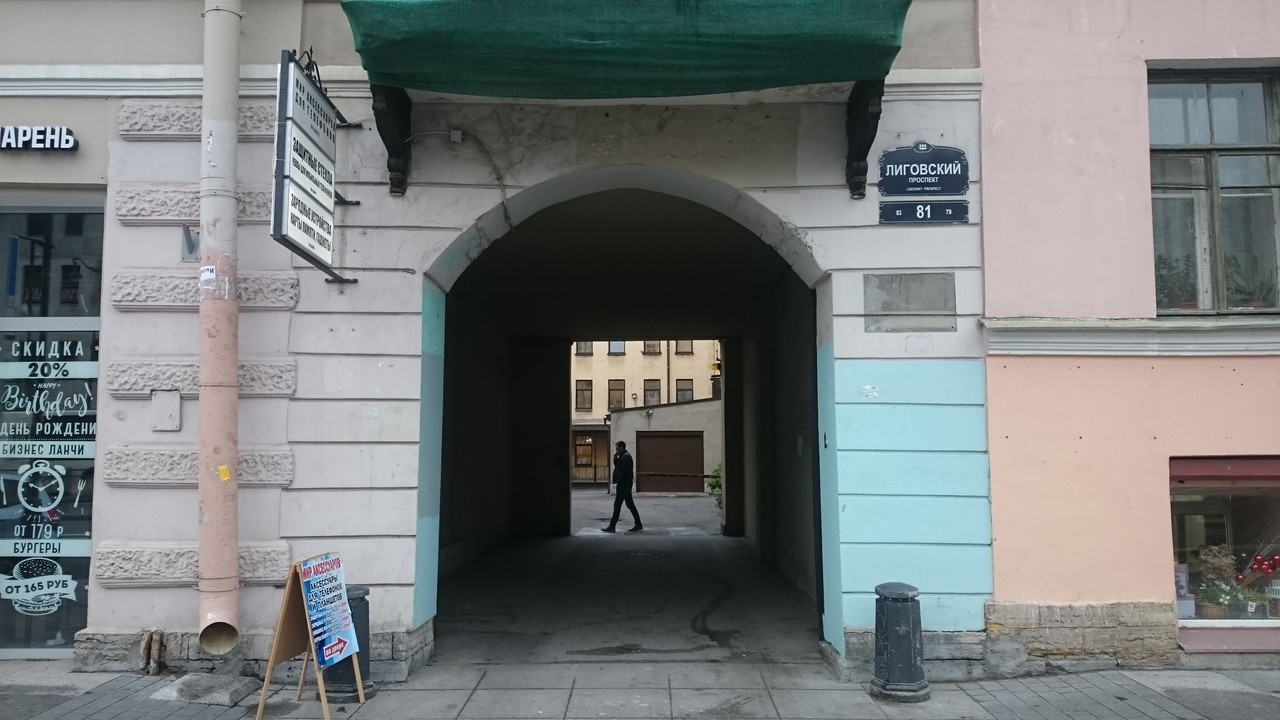arch: (415, 159, 844, 671)
cantilever: (264, 42, 371, 294)
window: (1152, 67, 1276, 323)
